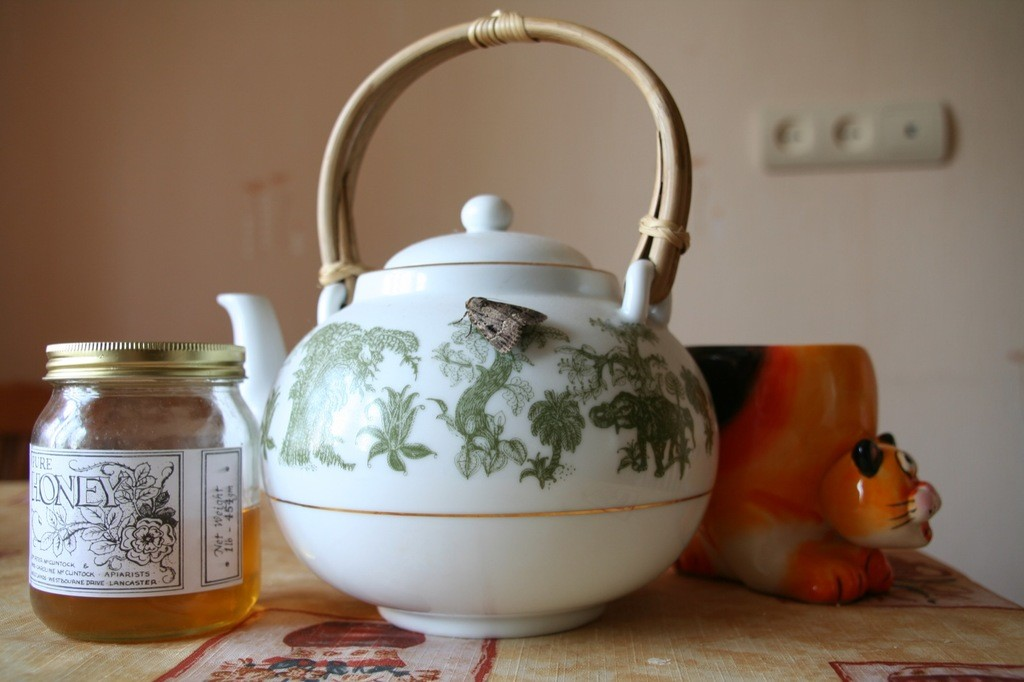teapot: (217, 9, 719, 640)
